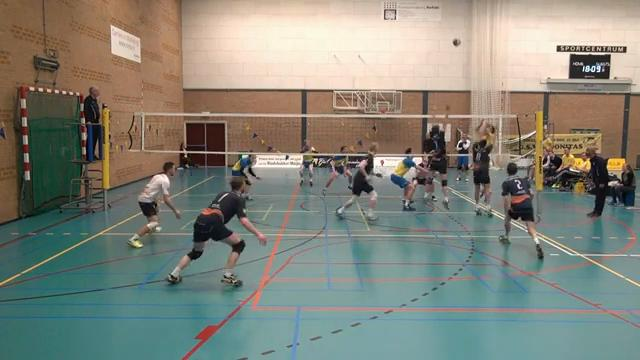Attack: (474, 111, 495, 139)
Block: (424, 99, 453, 210), (466, 122, 495, 217)
Player: (166, 177, 266, 285), (127, 162, 180, 247), (499, 163, 543, 258), (336, 143, 377, 220), (390, 148, 425, 210), (232, 154, 259, 199), (322, 155, 351, 194), (299, 140, 316, 185), (412, 154, 428, 194)
ball: (452, 37, 463, 49)
